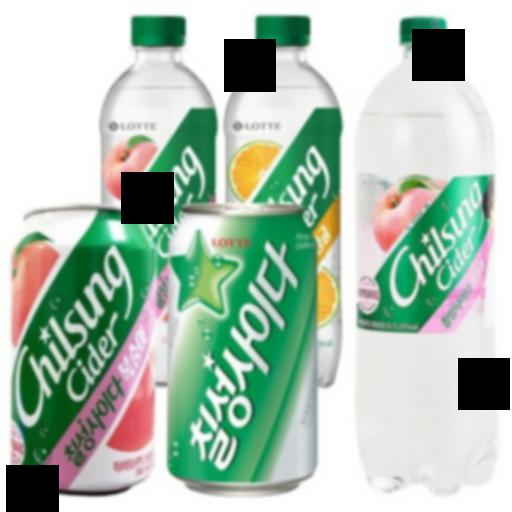chilsungcider: (163, 197, 326, 505)
